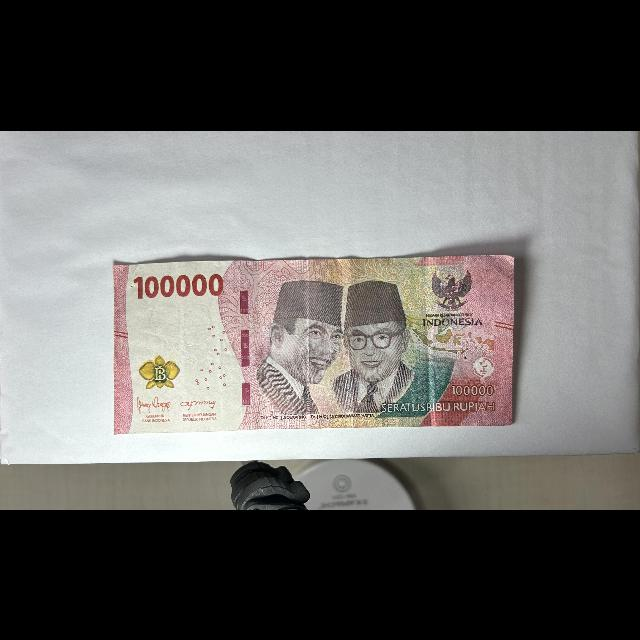Palsu-100k: (111, 253, 515, 435)
Tinta-Palsu-100k: (138, 354, 181, 389)
